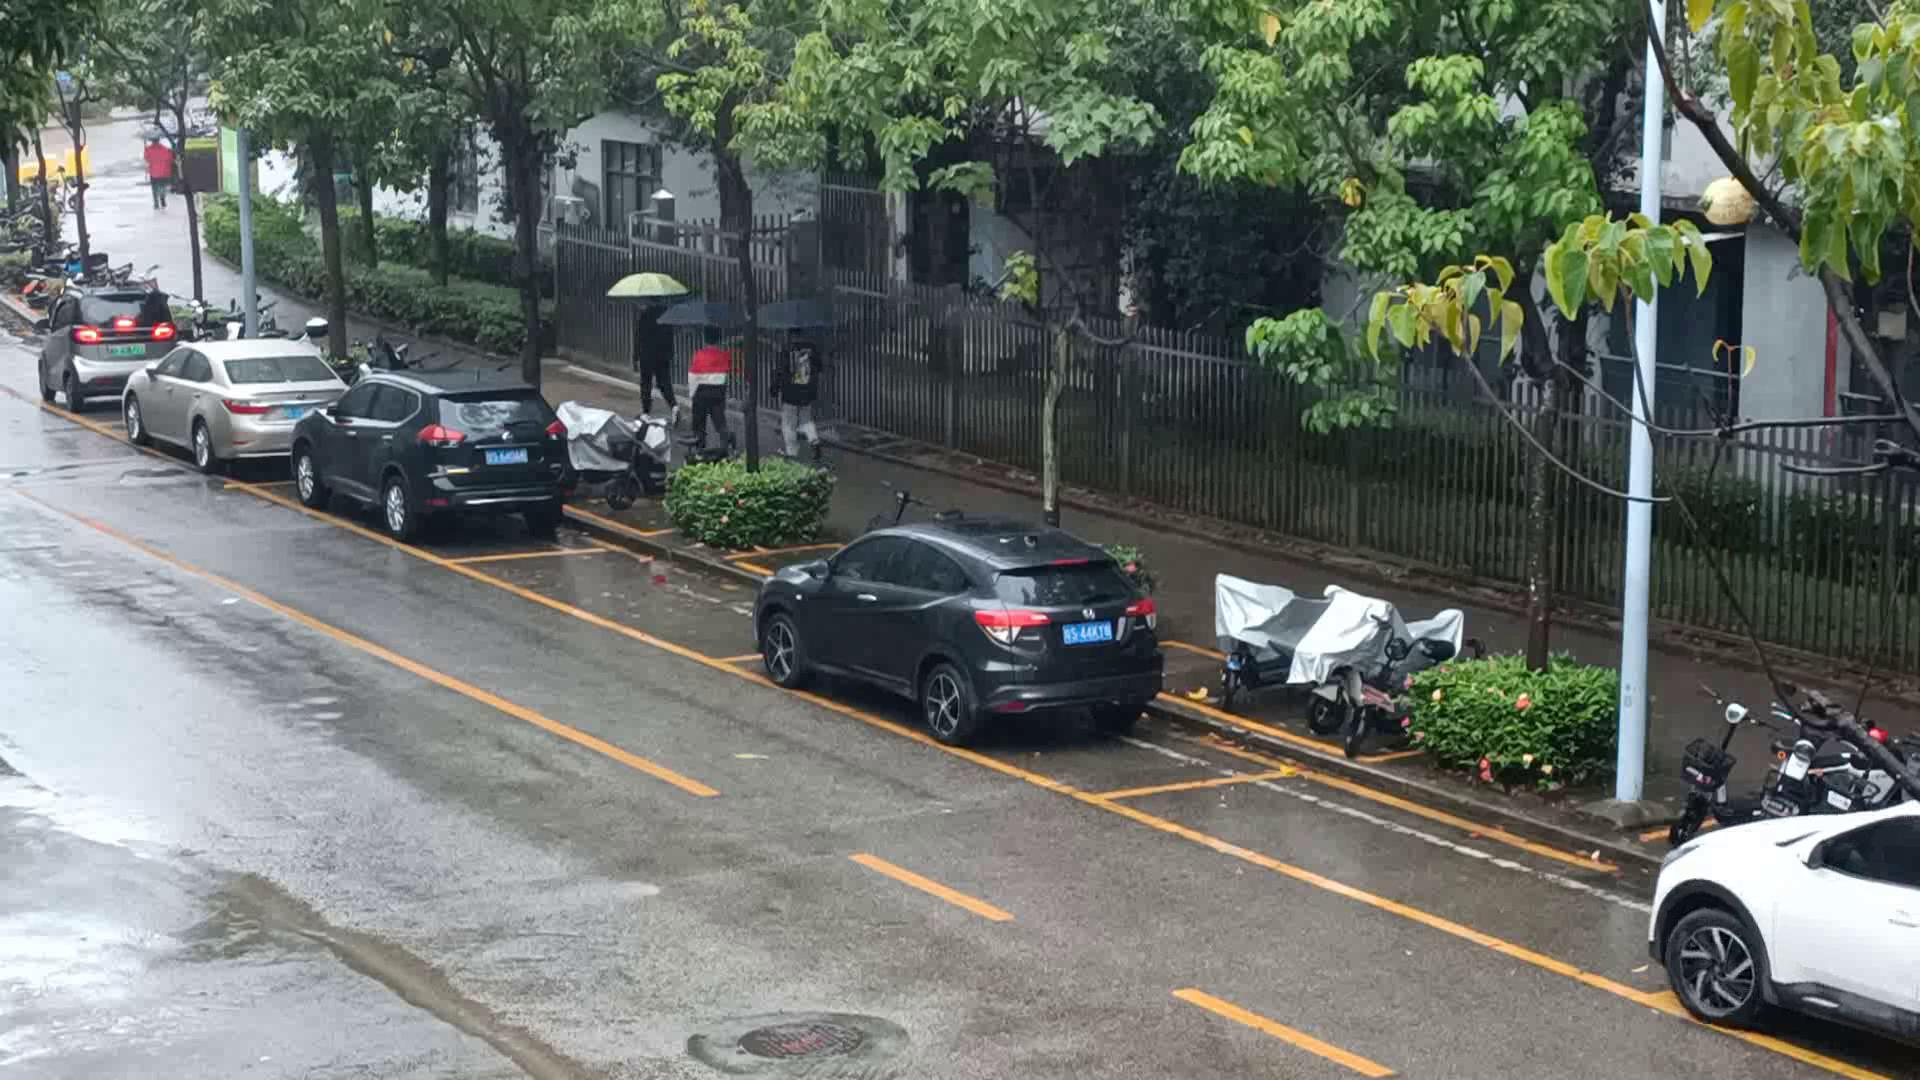space-empty: (1098, 758, 1704, 995), (435, 539, 829, 658)
space-occupied: (703, 620, 1308, 789), (236, 456, 620, 563), (85, 408, 357, 489), (10, 364, 186, 423)
